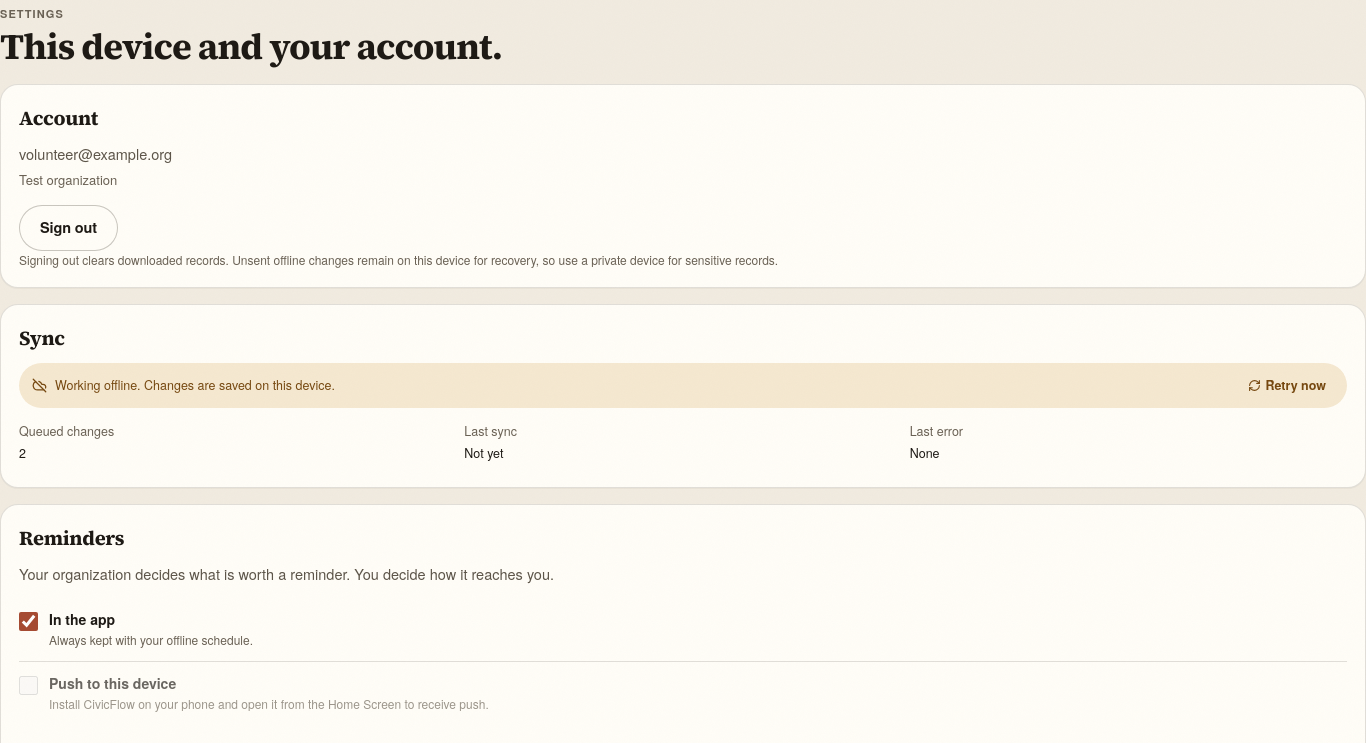
Scenario: volunteer sign-out and offline work › asks for confirmation before leaving unsynced changes on a device
This screenshot has width=1366, height=743.
Later steps or results of the test are not shown.
Click the button "Sign out". click: (68, 228)
box: [19,205,118,251]
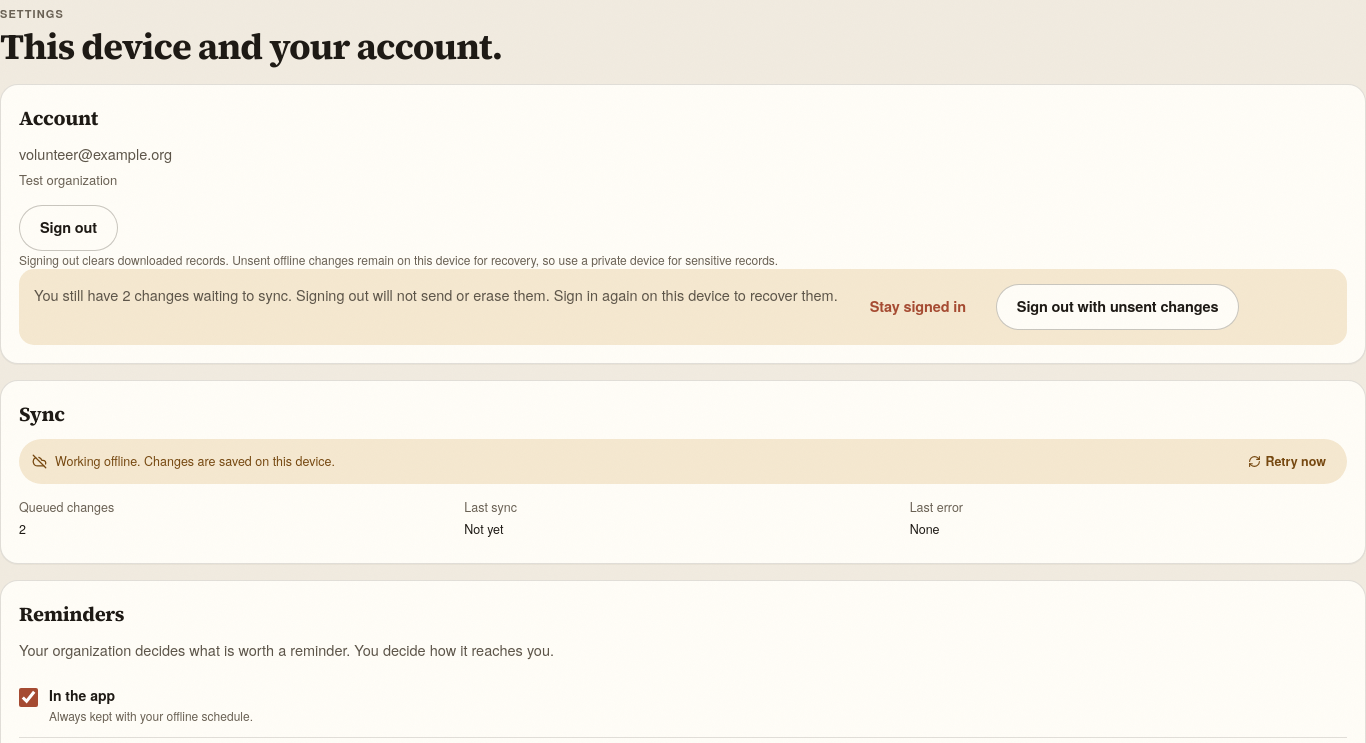
Check: the text "2 changes waiting to sync" is shown, box [34,284,838,307]
